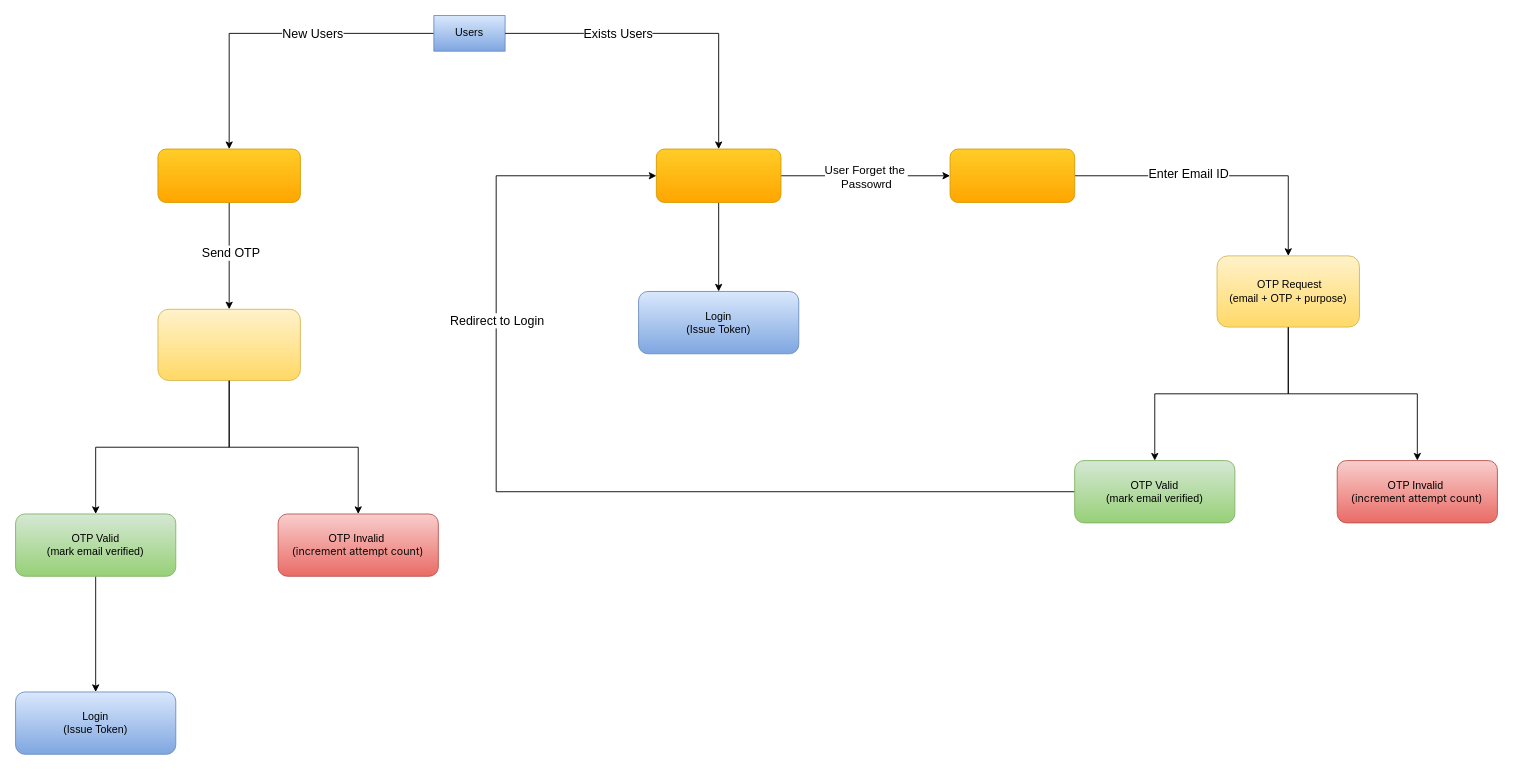
Some shapes in this 1513 by 770 pixel diagram are drawn without their labels. Each missing label, with the box of its shape:
Forget Password: (949, 148, 1075, 202)
LogIn (email + password): (655, 148, 781, 202)
SignUp (email + password): (157, 148, 300, 202)
Verify OTP Request (email + OTP + purpose): (157, 308, 300, 380)
